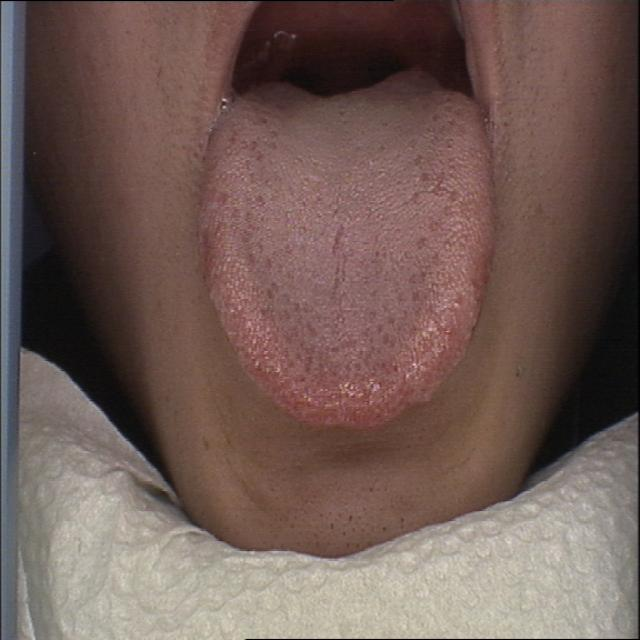tongue: (196, 69, 499, 432)
